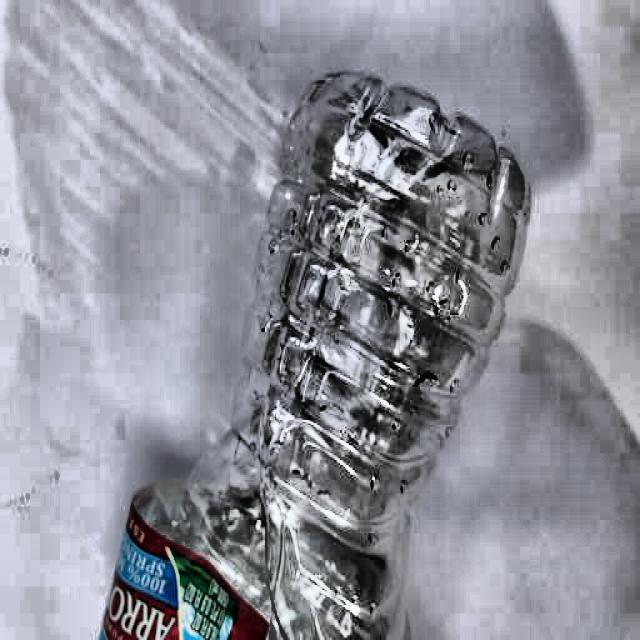plastic: (158, 73, 528, 640)
